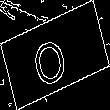O_N: (34, 23, 76, 87)
